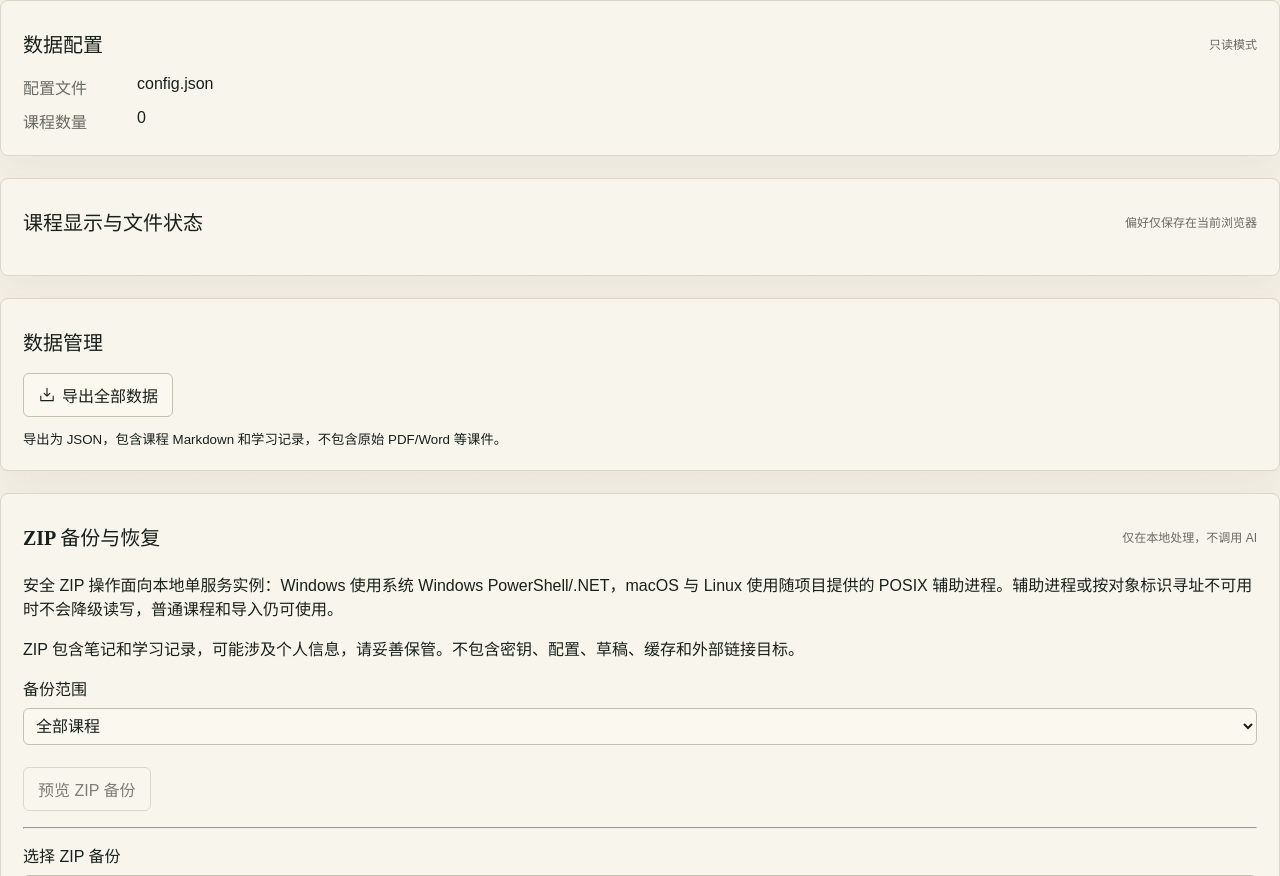
shows an actionable error when export fails
Click the button "导出全部数据": [98, 395] box [23, 373, 173, 417]
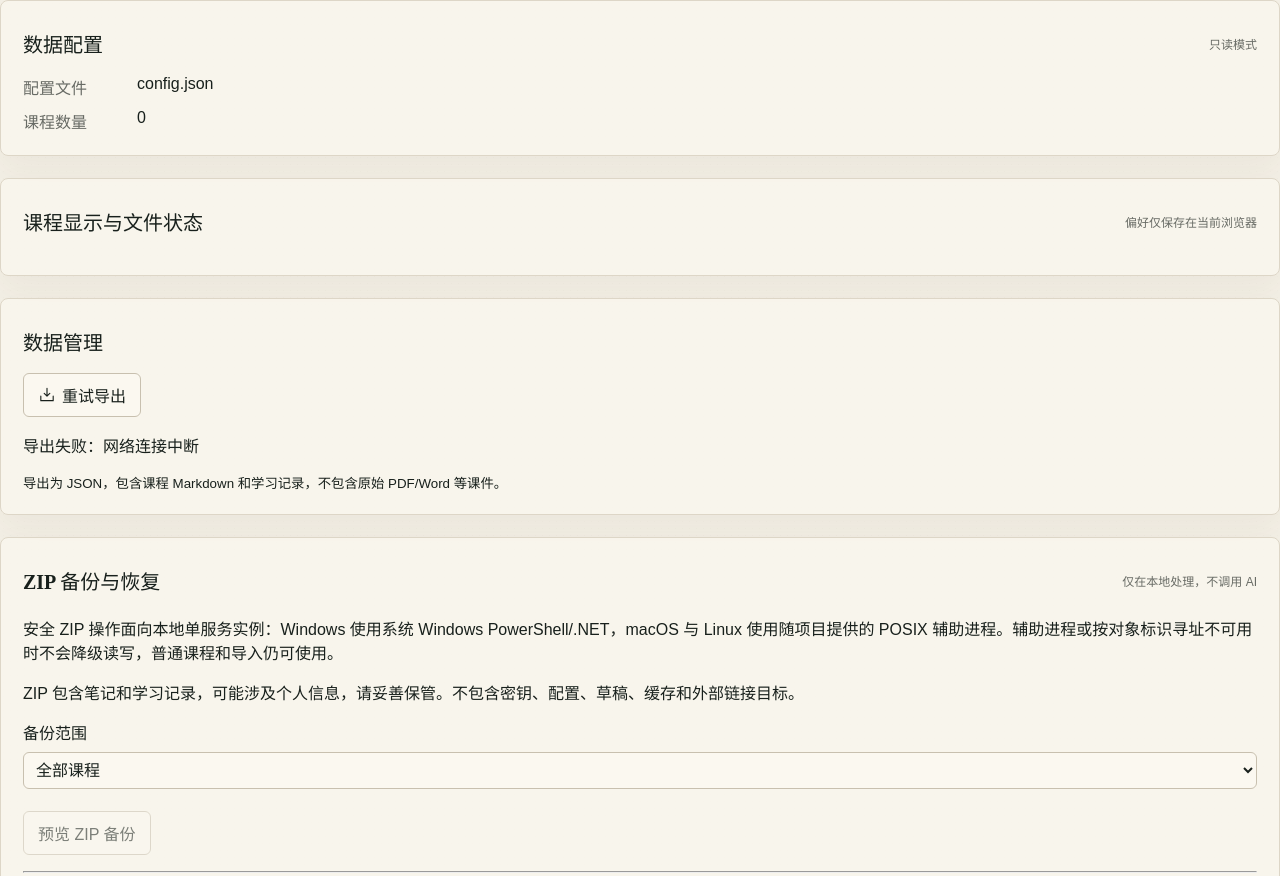
Expected: the button "重试导出" is enabled, [23, 373, 141, 417]
Expected: the message shows "网络连接中断", [103, 438, 199, 455]
